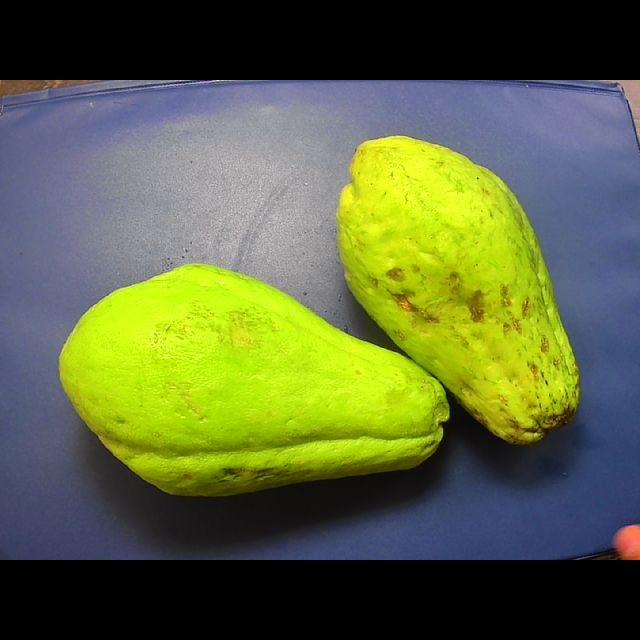chayote: (60, 264, 448, 494), (337, 136, 578, 444)
